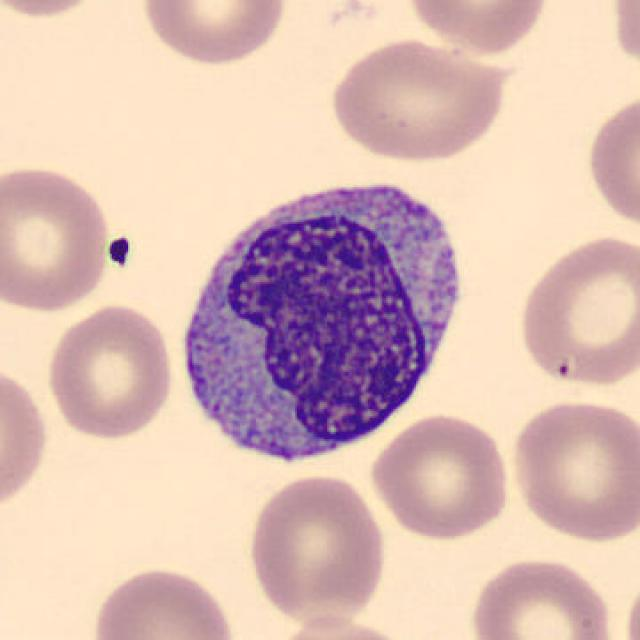Monocyte: (169, 163, 475, 482)
Platelets: (101, 232, 135, 270)
RBC: (324, 35, 510, 166), (243, 470, 389, 628), (505, 395, 638, 545), (366, 409, 514, 543), (514, 231, 638, 390), (42, 302, 178, 442), (0, 160, 116, 316), (466, 552, 618, 640), (87, 562, 242, 640), (137, 0, 290, 69), (400, 0, 553, 56), (0, 359, 53, 518), (582, 84, 638, 232), (263, 612, 416, 640), (606, 0, 640, 81), (0, 0, 115, 19)
